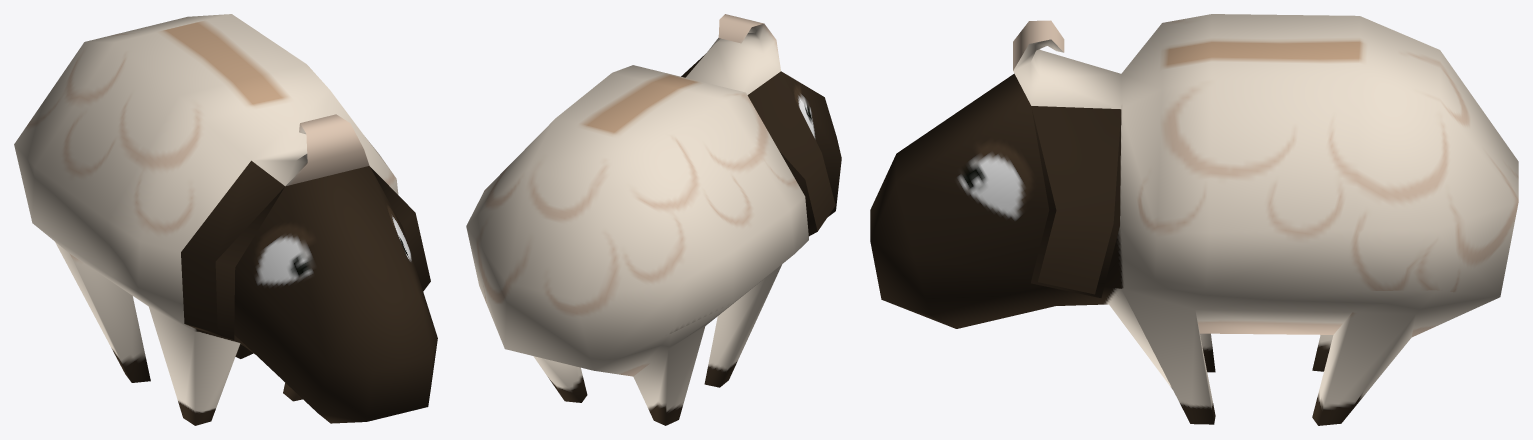
The model's file is SheepyBank.FBX.
3 renders of one model, left to right at view 1: azimuth 30°, elevation 25°; view 2: azimuth 150°, elevation 25°; view 3: azimuth 270°, elevation 25°, orthographic. The views are drawn at different scales.
Visible parts, largest first — view 1: SheepyBank; view 2: SheepyBank; view 3: SheepyBank.
Boxes of the visible parts, bbox=[...] form: SheepyBank: bbox=[14, 14, 437, 425]; SheepyBank: bbox=[466, 14, 841, 425]; SheepyBank: bbox=[870, 14, 1518, 425].
Size of the model in its own units: 36.05 by 41.53 by 67.02.
1 material, 1 textured.
